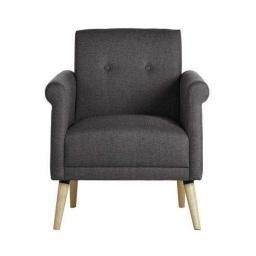Chair: (45, 28, 209, 219)
